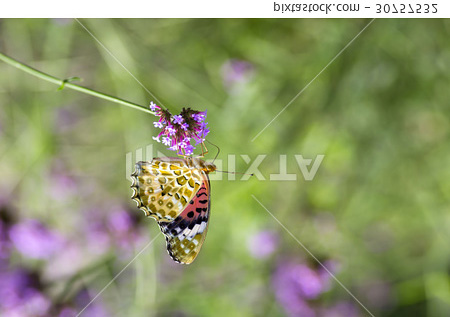Argyreus hyperbius: (129, 121, 255, 268)
butterfly: (127, 119, 253, 266)
